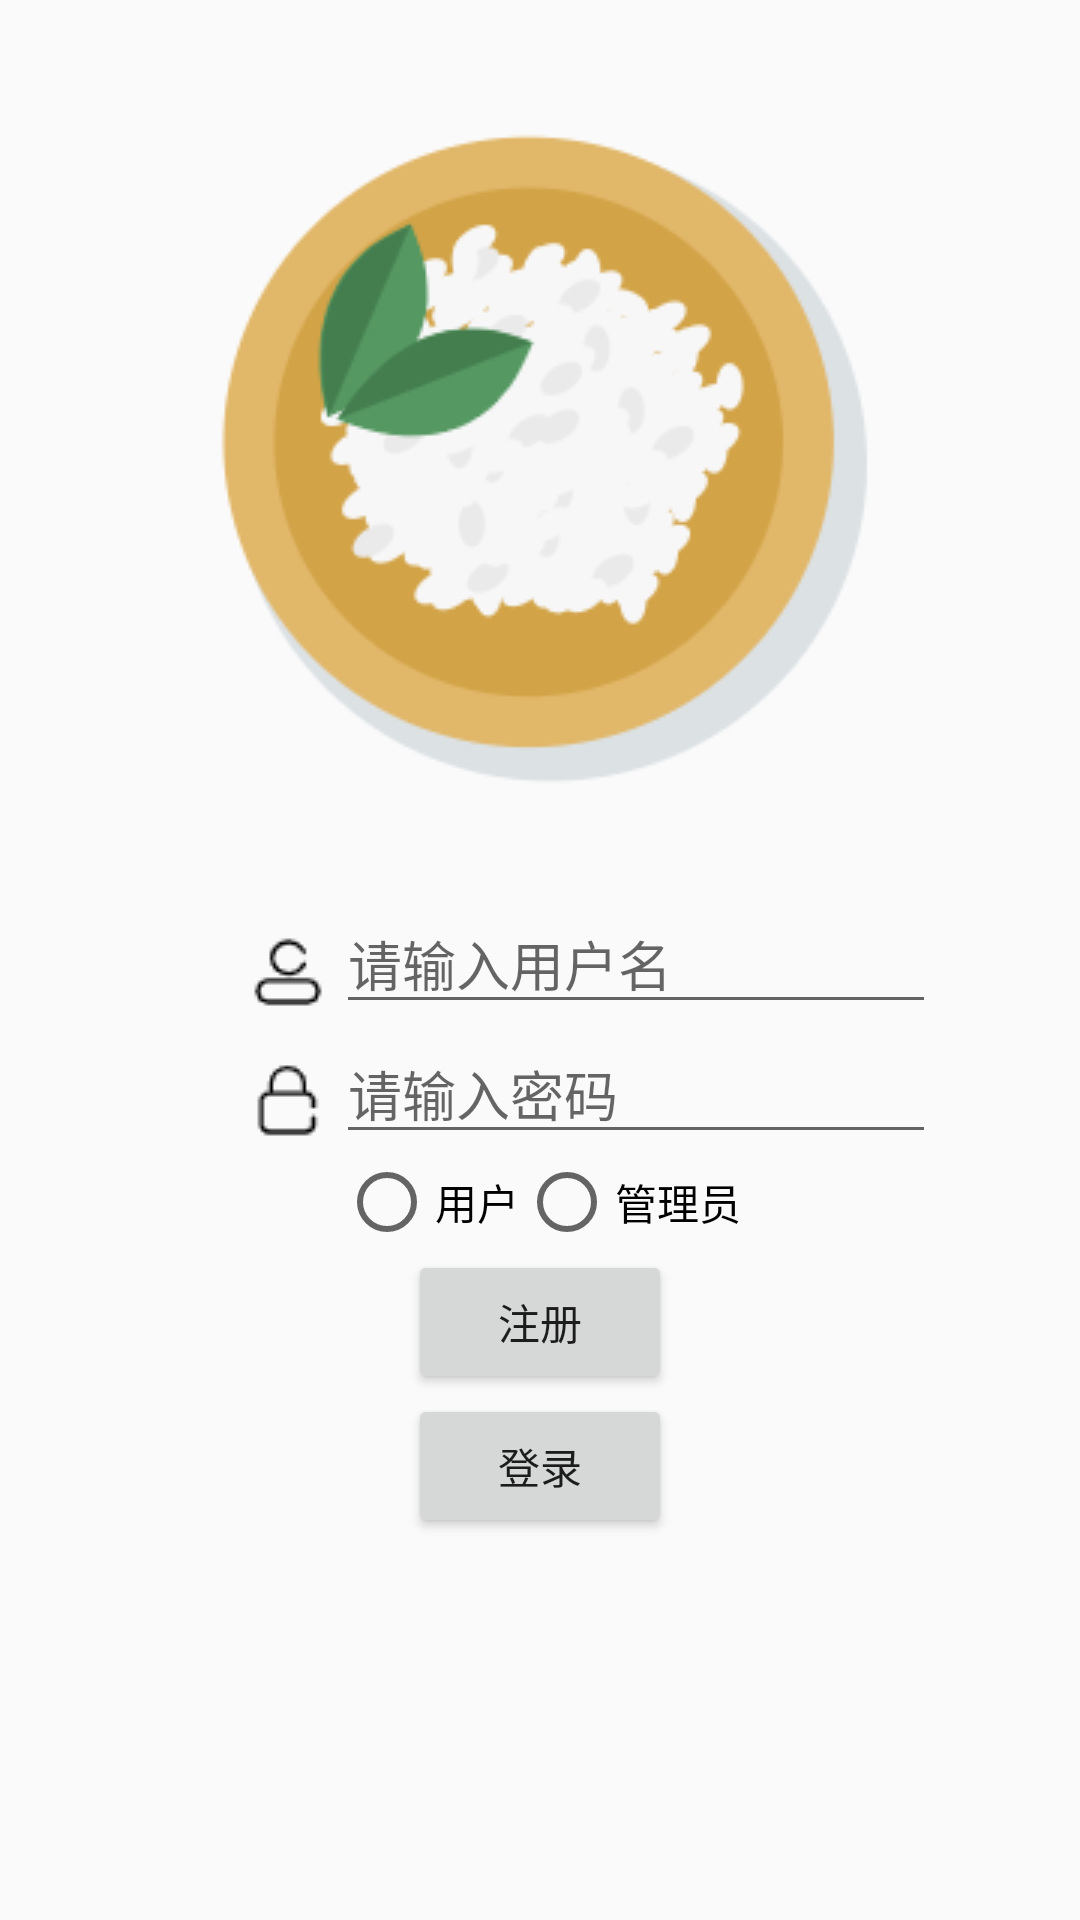

Locate icon controls on the screen. Image size 1080 × 1920, boxes as (x1, y1, x2, y2).
mima: (257, 1065, 318, 1136)
yonghu: (254, 938, 322, 1006)
